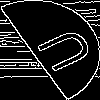U: (25, 25, 96, 80)
